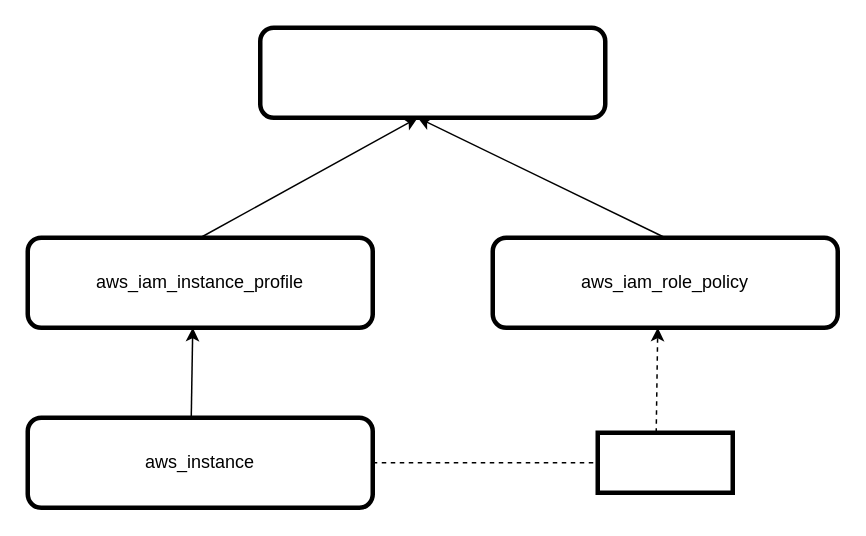
The diagram is 866 pixels wide and 536 high, and some of its shapes have lost their labels. Here are the shapes that lost their labels. From the top down, the box of each, then its label:
(257, 25, 607, 119): aws_iam_role
(595, 430, 734, 494): depends_on
